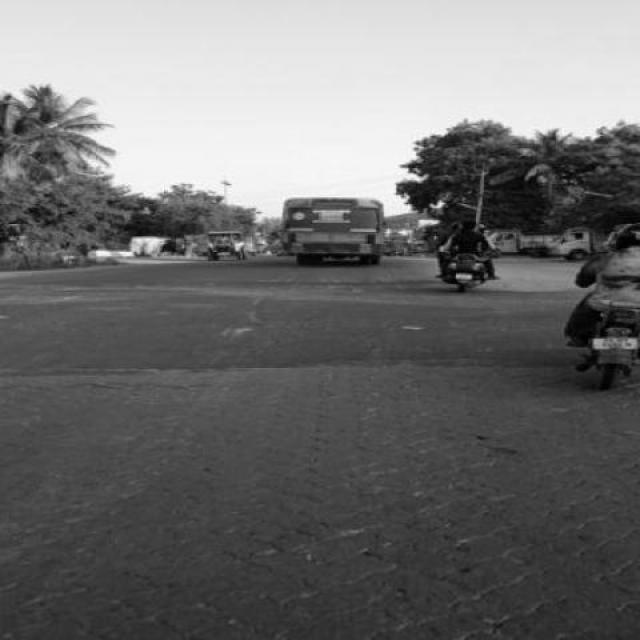Unmarked Bump: (31, 274, 437, 288)
